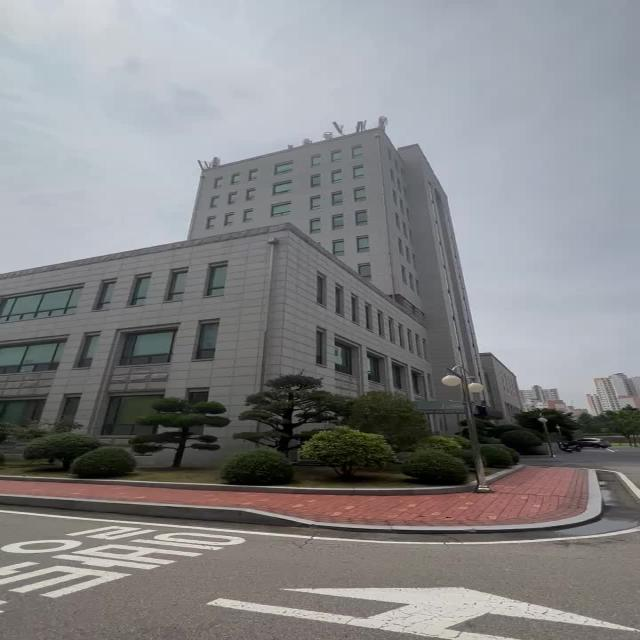building: (105, 140, 491, 385)
